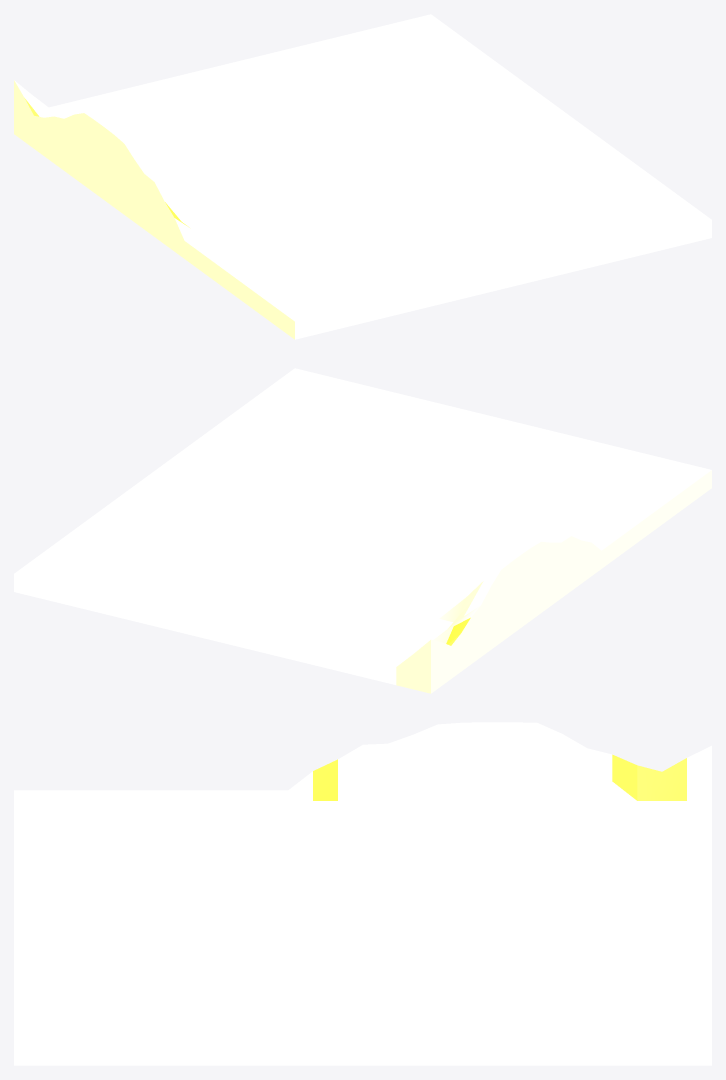
The model's file is newshk-53.glb.
The picture shows the model from 3 angles, top to bottom: view 1: azimuth 30°, elevation 25°; view 2: azimuth 150°, elevation 25°; view 3: azimuth 270°, elevation 25°; orthographic projection. The views are drawn at different scales.
Parts seen in each view (by area): view 1: newshk-53; view 2: newshk-53; view 3: newshk-53.
Boxes of the visible parts, bbox=[...] form: newshk-53: bbox=[14, 14, 711, 339]; newshk-53: bbox=[14, 368, 711, 693]; newshk-53: bbox=[14, 722, 711, 1065].
Size of the model in its own units: 2 by 0.3347 by 2.33.
